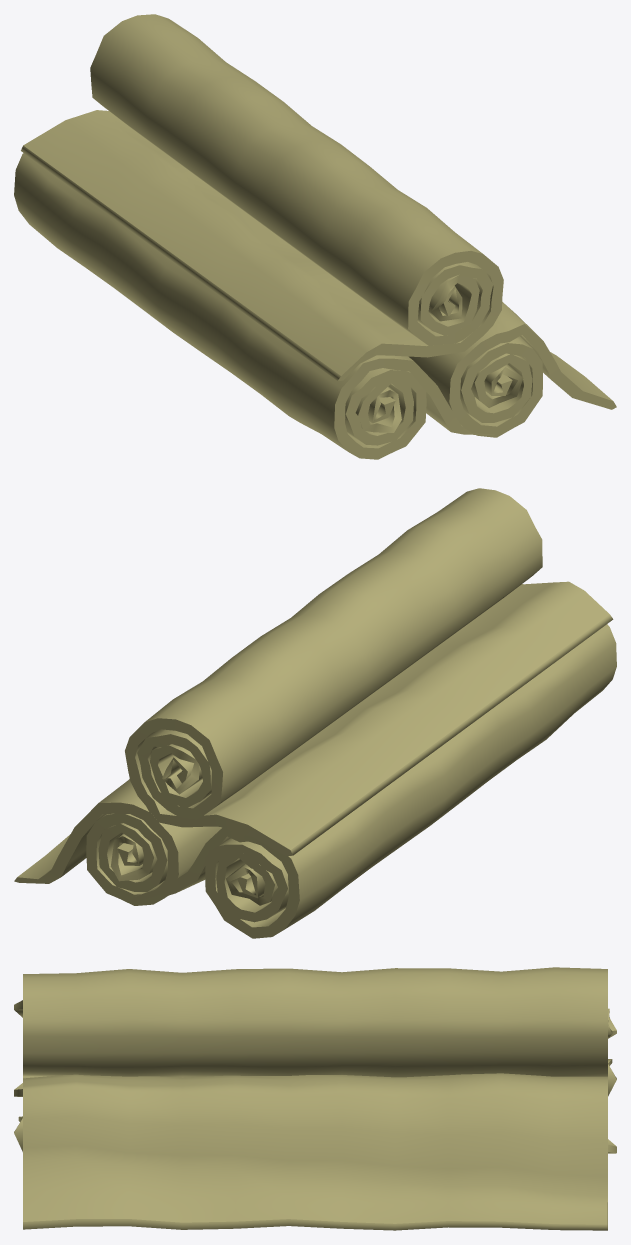
The model's file is PreppedFabric.fbx.
3 renders of one model, top to bottom at view 1: azimuth 30°, elevation 25°; view 2: azimuth 150°, elevation 25°; view 3: azimuth 270°, elevation 25°, orthographic. The views are drawn at different scales.
Visible parts, largest first — view 1: P_Fabric2, P_Fabric, P_Fabric1; view 2: P_Fabric2, P_Fabric, P_Fabric1; view 3: P_Fabric1, P_Fabric2.
Boxes of the visible parts, bbox=[...] form: P_Fabric2: bbox=[21, 14, 503, 380]; P_Fabric: bbox=[14, 153, 494, 459]; P_Fabric1: bbox=[409, 302, 616, 437]; P_Fabric2: bbox=[125, 488, 613, 855]; P_Fabric: bbox=[131, 624, 616, 938]; P_Fabric1: bbox=[14, 779, 221, 905]; P_Fabric1: bbox=[14, 1073, 616, 1230]; P_Fabric2: bbox=[14, 967, 616, 1077].
Bounding box in the file's own units: 6.27 × 4.27 × 12.43.
